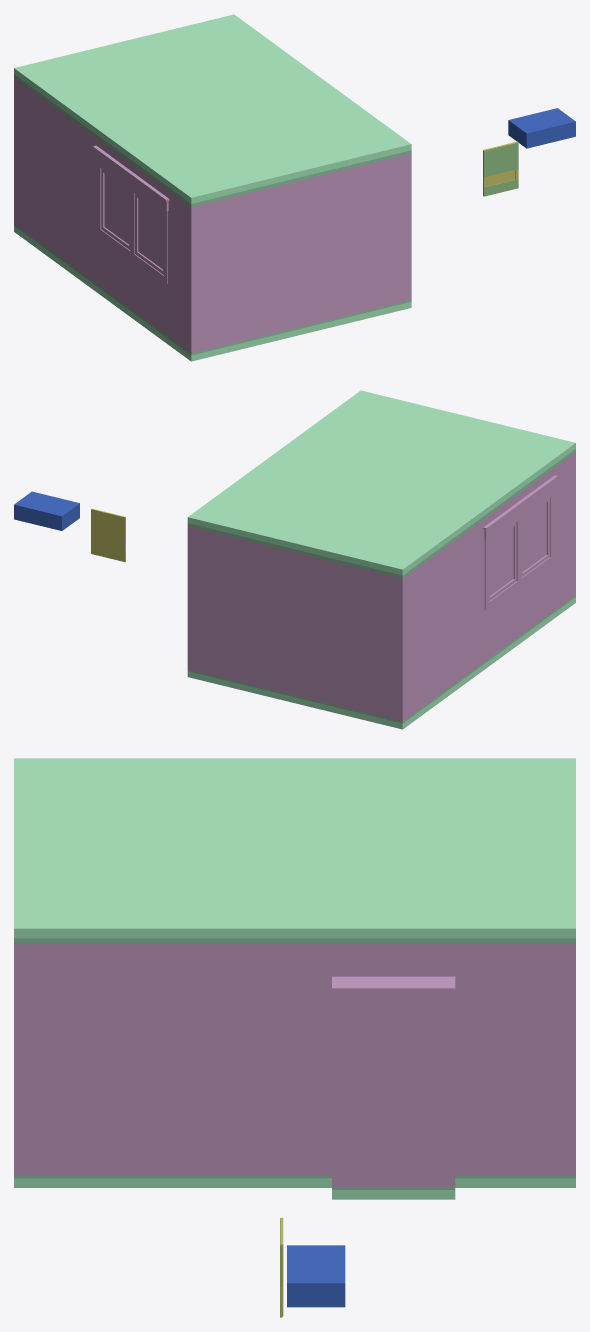
File: FloorPlan20_physics.fbx
The picture shows the model from 3 angles, top to bottom: view 1: azimuth 30°, elevation 25°; view 2: azimuth 150°, elevation 25°; view 3: azimuth 270°, elevation 25°; orthographic projection. The views are drawn at different scales.
Visible parts, largest first — view 1: StandardWallSize, Ceiling, Window, WindowPane, Floor, StandardSinkSize1, DrawerBase2; view 2: StandardWallSize, Ceiling, Window, WindowPane, Floor, StandardSinkSize1, CabinetDoorBase3; view 3: StandardWallSize, Ceiling, Floor, StandardSinkSize1.
Boxes of the visible parts, box(x1,y1,x2,y2) form: StandardWallSize: box(14, 74, 411, 355); Ceiling: box(14, 14, 411, 203); Window: box(93, 145, 169, 283); WindowPane: box(104, 174, 162, 269); Floor: box(14, 226, 411, 361); StandardSinkSize1: box(508, 108, 575, 148); DrawerBase2: box(483, 150, 518, 177); StandardWallSize: box(187, 449, 575, 723); Ceiling: box(187, 390, 575, 575); Window: box(483, 475, 557, 610); WindowPane: box(489, 503, 546, 595); Floor: box(187, 597, 575, 729); StandardSinkSize1: box(14, 491, 79, 530); CabinetDoorBase3: box(91, 509, 125, 560); StandardWallSize: box(14, 938, 575, 1189); Ceiling: box(14, 758, 575, 938); Floor: box(14, 1178, 575, 1199); StandardSinkSize1: box(287, 1245, 345, 1307).
Size of the model in its own units: 819 by 270 by 530.
